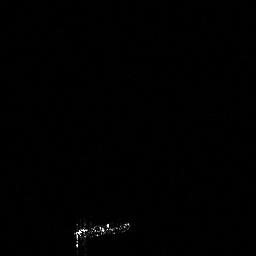ship: (70, 218, 133, 253)
